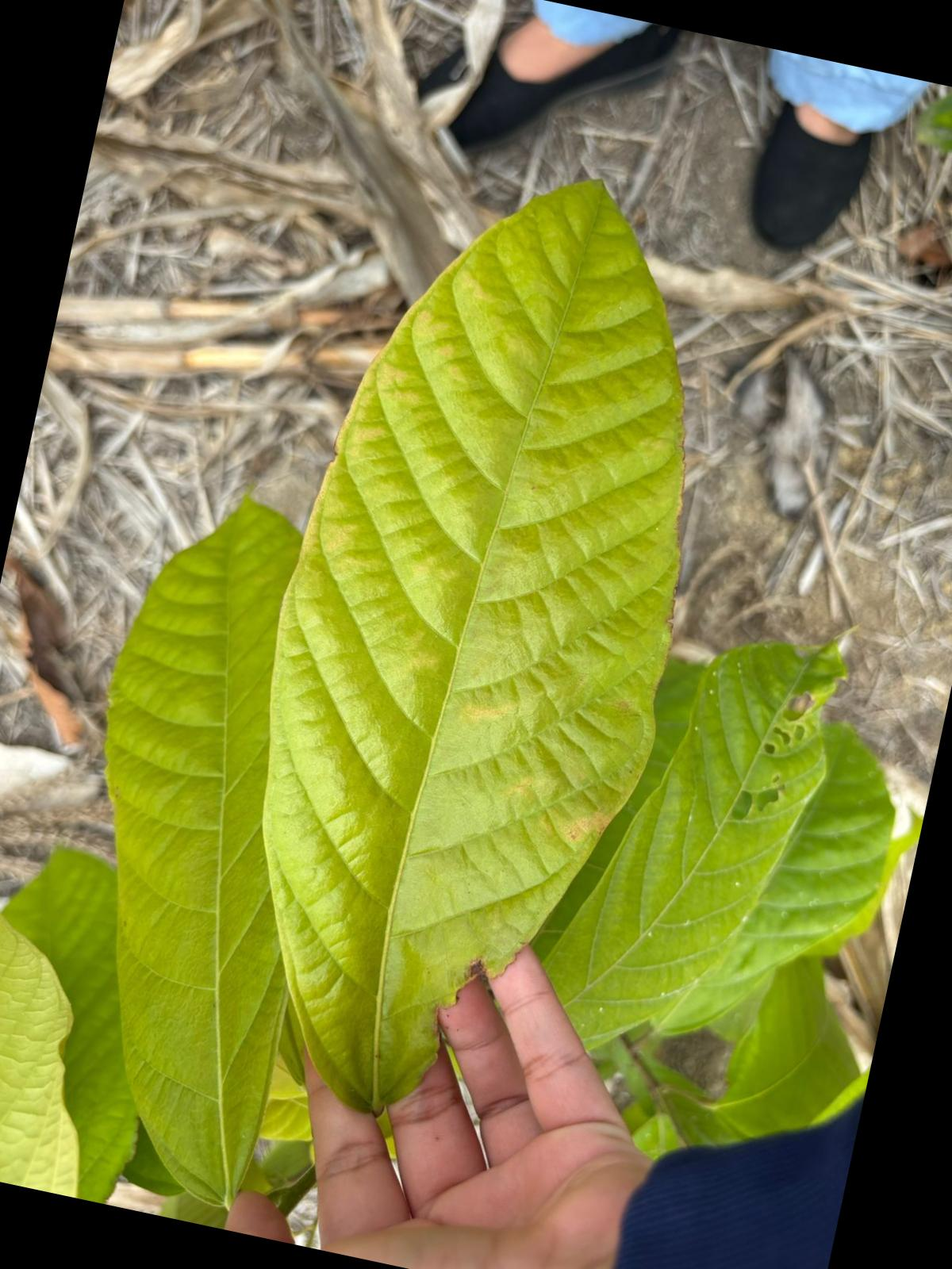Nitrogeno: (265, 183, 683, 1110), (107, 501, 301, 1203)
